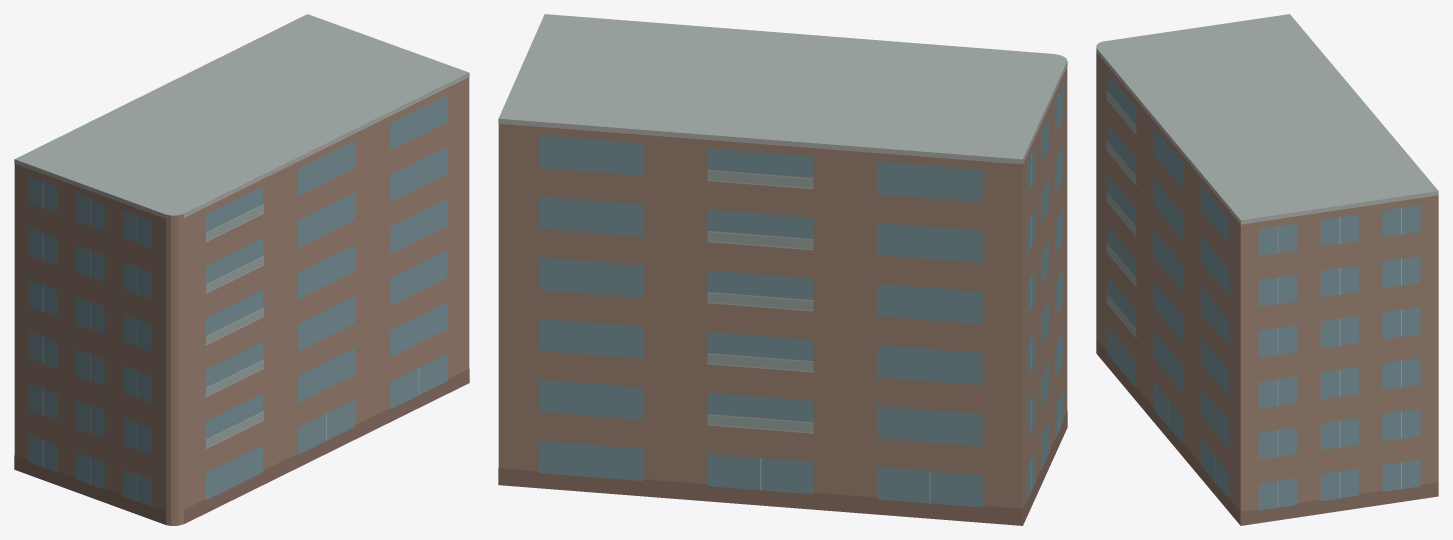
The model's file is survey-upis-32696905.glb.
3 renders of one model, left to right at view 1: azimuth 30°, elevation 25°; view 2: azimuth 150°, elevation 25°; view 3: azimuth 270°, elevation 25°, orthographic. The views are drawn at different scales.
Parts seen in each view (by area): view 1: survey-upis-32696905.tmp; view 2: survey-upis-32696905.tmp; view 3: survey-upis-32696905.tmp.
Part boxes in pixels (x1,y1,x2,y2): survey-upis-32696905.tmp: (14,14,469,525); survey-upis-32696905.tmp: (498,14,1067,525); survey-upis-32696905.tmp: (1096,14,1438,525).
Size of the model in its own units: 25.67 by 17.7 by 17.99.
